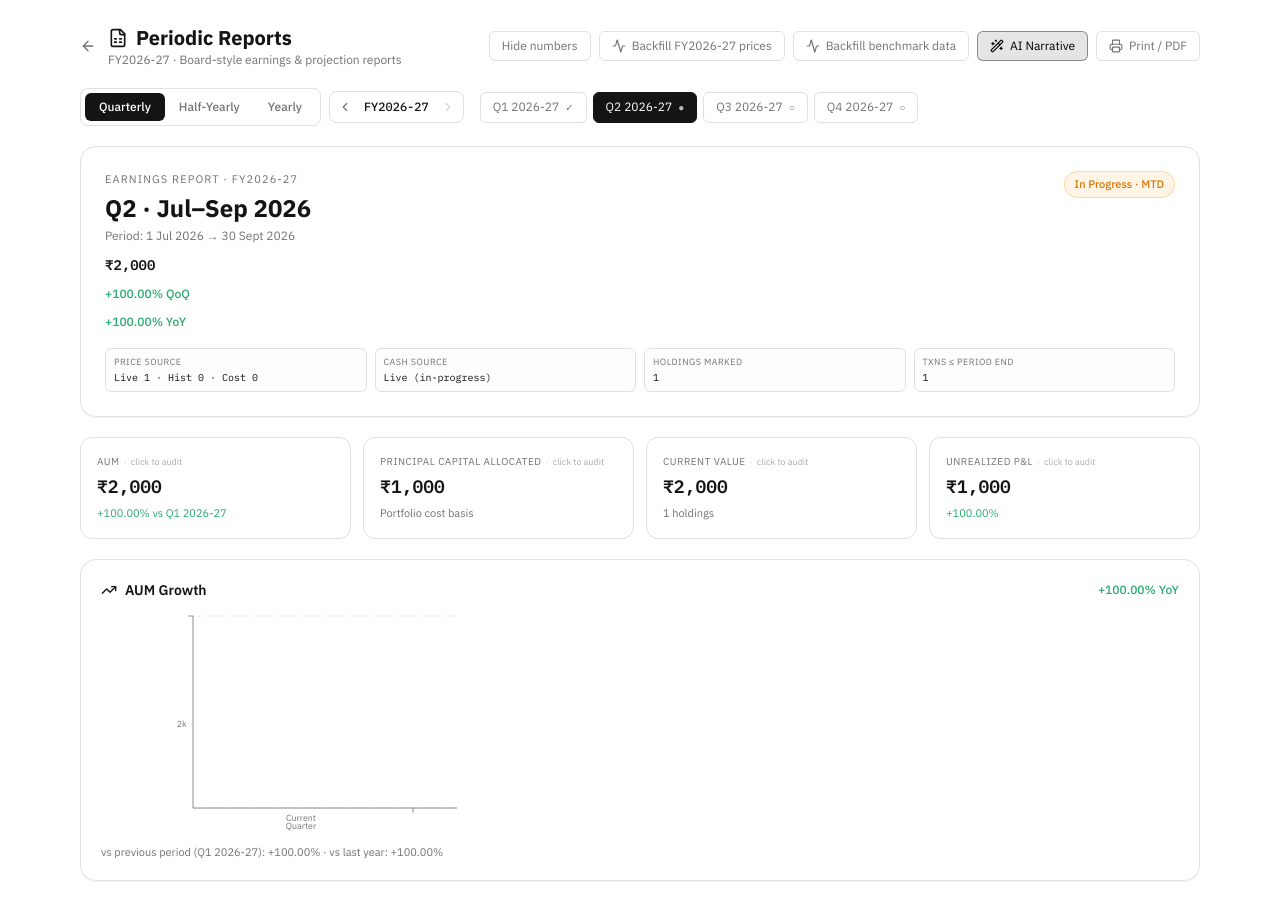
Test case: Reports page › compares H1 against the prior fiscal year's H2 instead of showing "First period", when that prior-FY data actually exists
What coordinates should you click on to do the following:
click the button "Half-Yearly"
I would click on:
 (209, 107)
Its box is [165,93,254,121].
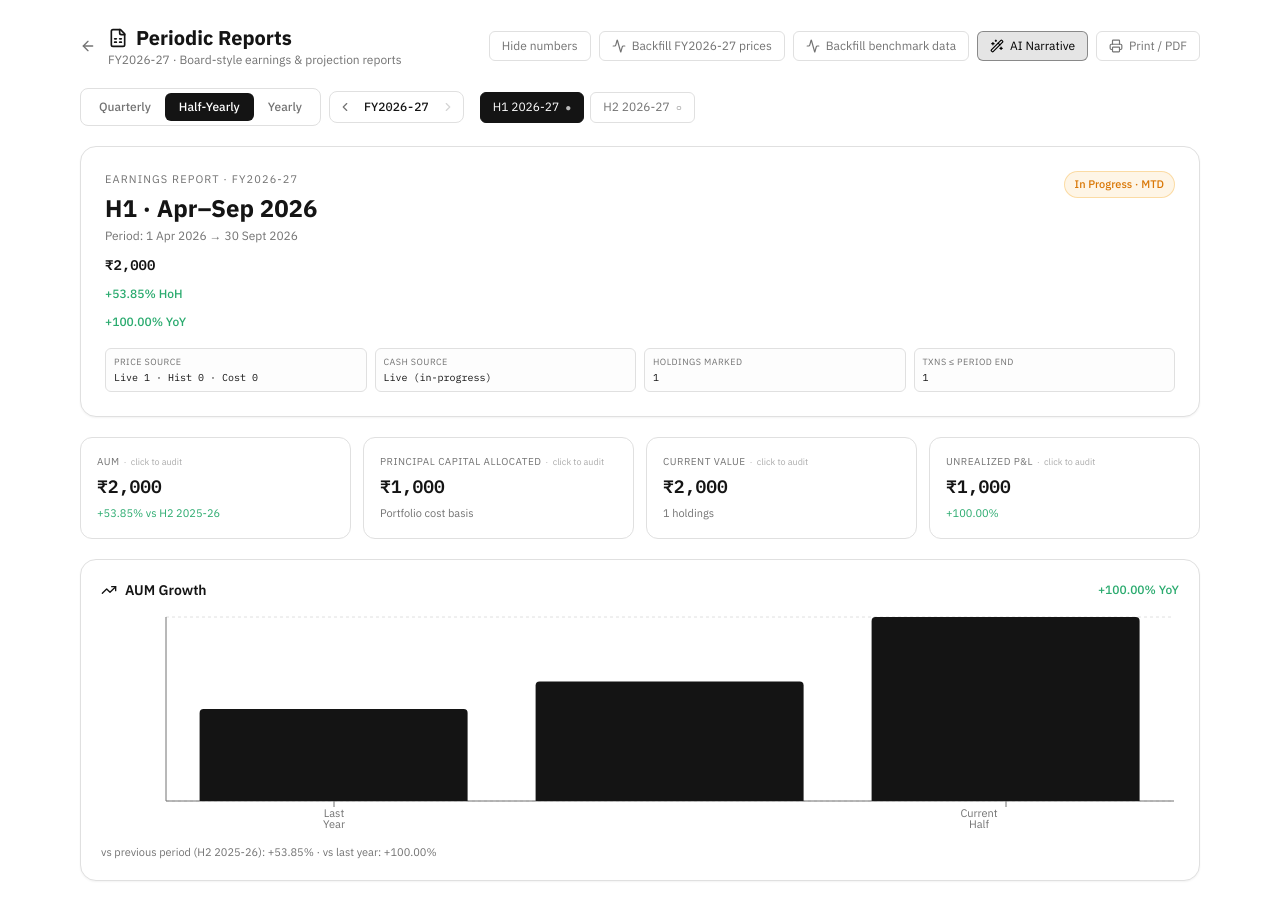
Check: the heading "H1 · Apr–Sep 2026" is shown, box [105,192,338,224]
Check: the text "+53.85% vs H2 2025-26" is shown, box [97,506,220,520]
Check: the text "+53.85% HoH" is shown, box [105,286,183,300]
